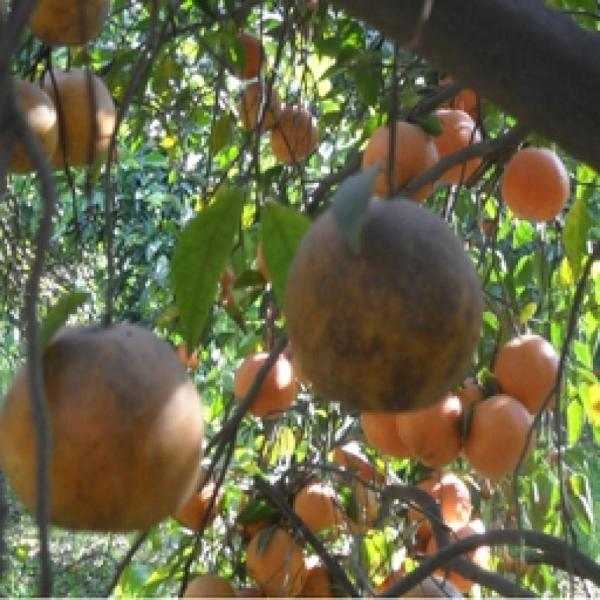Canker: (266, 191, 488, 425), (0, 317, 204, 533), (36, 61, 130, 174), (360, 118, 443, 209), (0, 76, 62, 179), (14, 0, 115, 56), (264, 104, 321, 162), (238, 82, 288, 132), (386, 573, 468, 597), (179, 572, 241, 598)
Sana: (462, 391, 545, 485), (492, 332, 570, 415), (500, 142, 572, 222), (417, 106, 487, 186), (397, 393, 460, 473), (229, 348, 297, 421), (403, 473, 475, 535), (422, 526, 488, 591), (354, 404, 412, 468), (241, 528, 297, 592), (169, 470, 225, 528), (293, 483, 345, 544), (216, 33, 271, 79), (172, 338, 206, 374)
